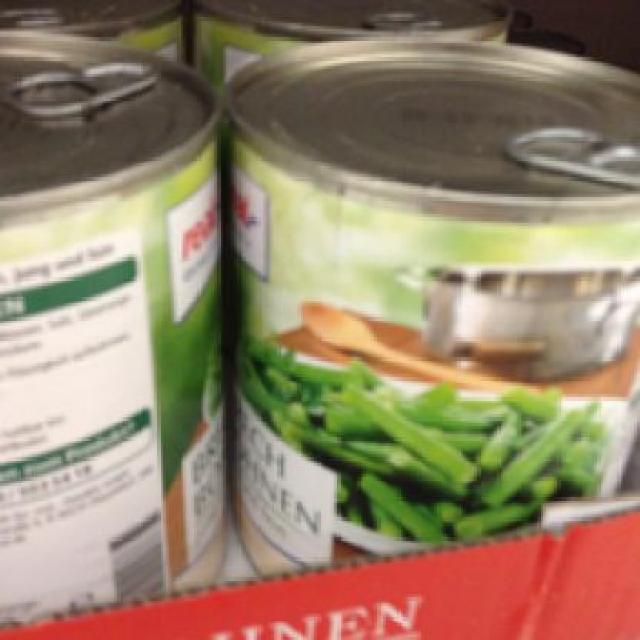Beans: (228, 34, 638, 580), (0, 37, 217, 612)
